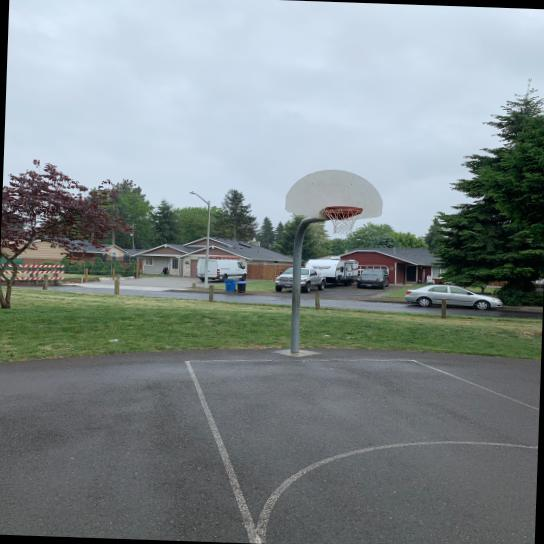basketball-hoop: (323, 205, 364, 236)
